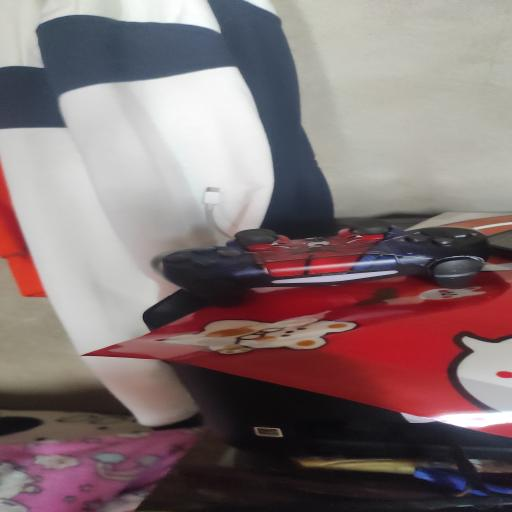ControlPlay4: (160, 220, 489, 303)
